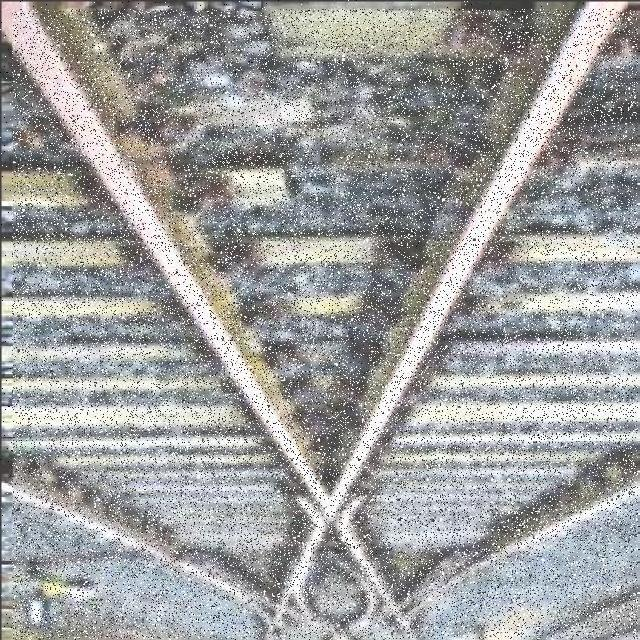rail: (13, 11, 640, 640)
